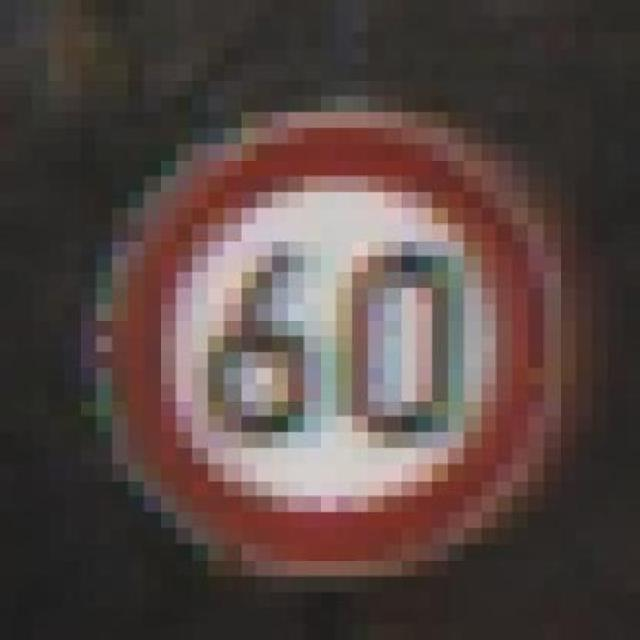forb_speed_over_60: (119, 120, 542, 563)
